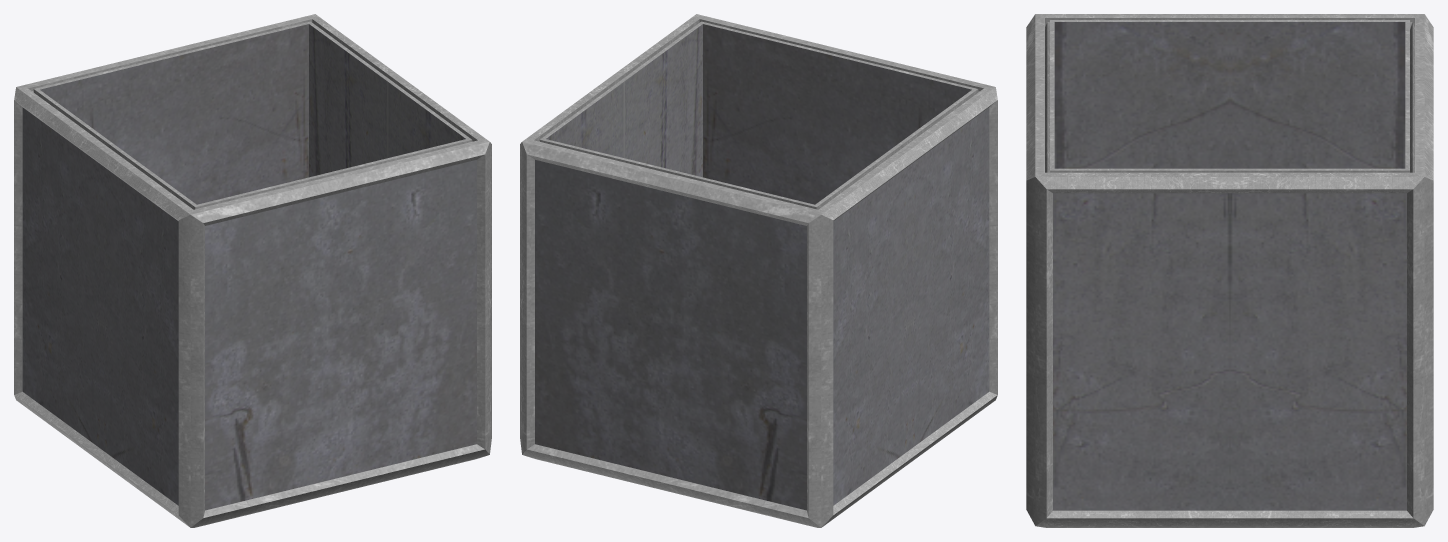
File: metal_crate_3.glb
The picture shows the model from 3 angles, left to right: view 1: azimuth 30°, elevation 25°; view 2: azimuth 150°, elevation 25°; view 3: azimuth 270°, elevation 25°; orthographic projection. The views are drawn at different scales.
Visible parts, largest first — view 1: metal_crate_3; view 2: metal_crate_3; view 3: metal_crate_3.
Boxes of the visible parts, bbox=[...] form: metal_crate_3: bbox=[14, 14, 491, 527]; metal_crate_3: bbox=[520, 14, 997, 527]; metal_crate_3: bbox=[1026, 14, 1433, 527].
Bounding box in the file's own units: 0.6908 × 0.6723 × 0.6972.
Materials: 1 (1 with a texture image).
